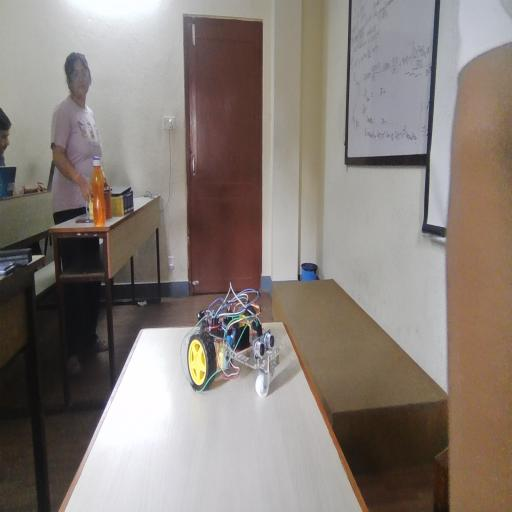Bottle: (85, 142, 113, 216)
car: (177, 274, 256, 395)
